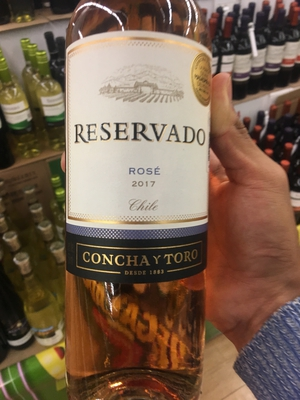reservado rose: (57, 4, 229, 388)
